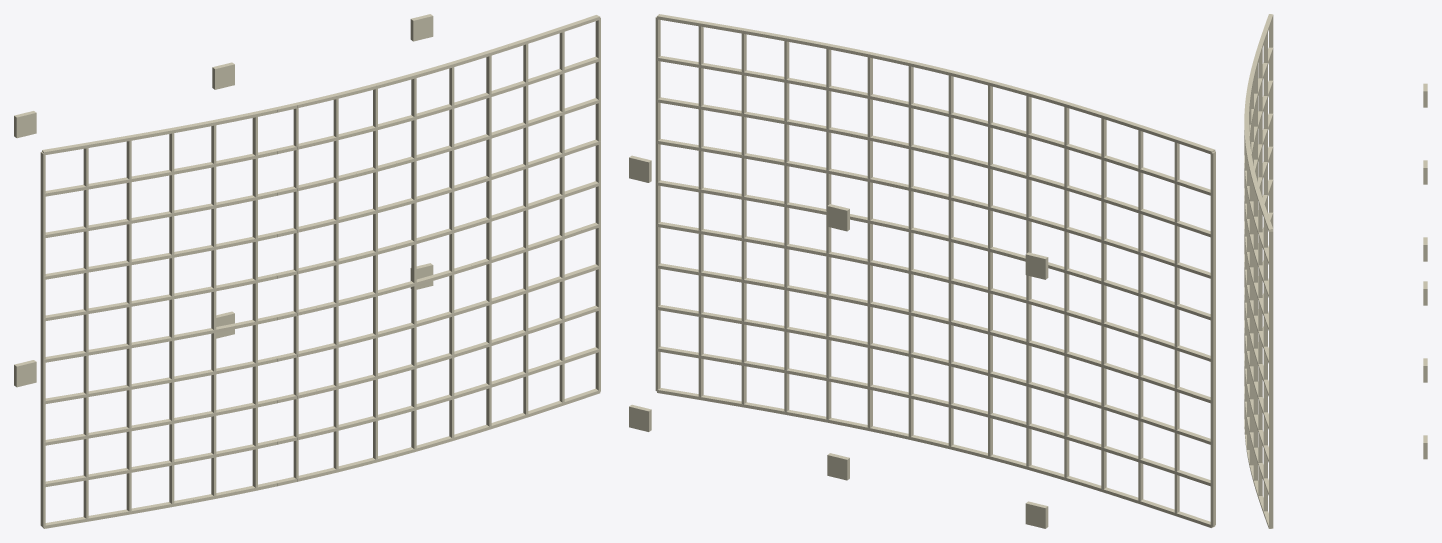
File: ivory.obj
3 renders of one model, left to right at view 1: azimuth 30°, elevation 25°; view 2: azimuth 150°, elevation 25°; view 3: azimuth 270°, elevation 25°, orthographic. The views are drawn at different scales.
Parts seen in each view (by area): view 1: geometry; view 2: geometry; view 3: geometry.
Part boxes in pixels (box(x1,y1,x2,y2)): geometry: box(14, 14, 600, 528); geometry: box(629, 14, 1215, 528); geometry: box(1244, 14, 1427, 528).
Bounding box in the file's own units: 28.12 × 18.15 × 10.07.
